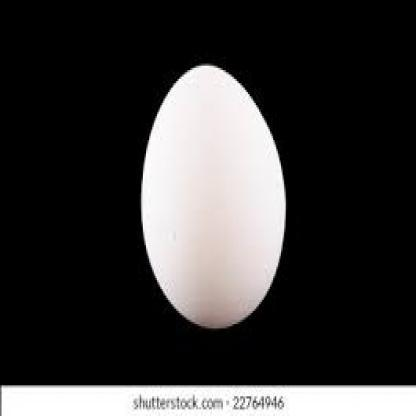egg: (140, 64, 288, 331)
